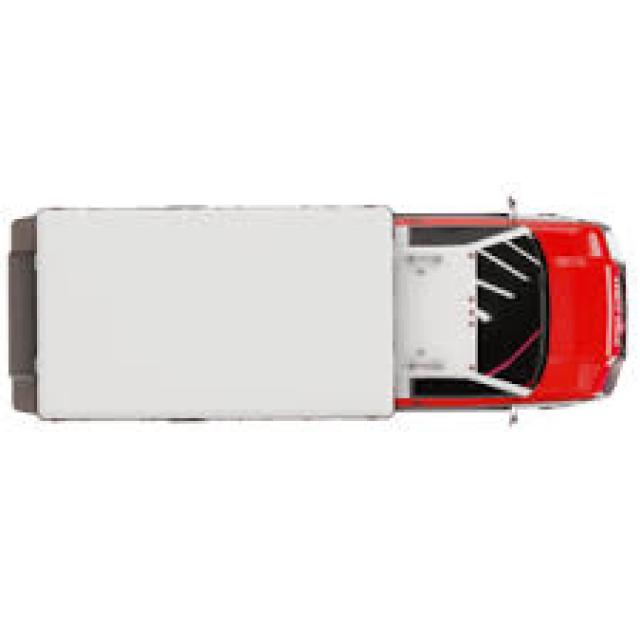truck: (7, 206, 622, 418)
